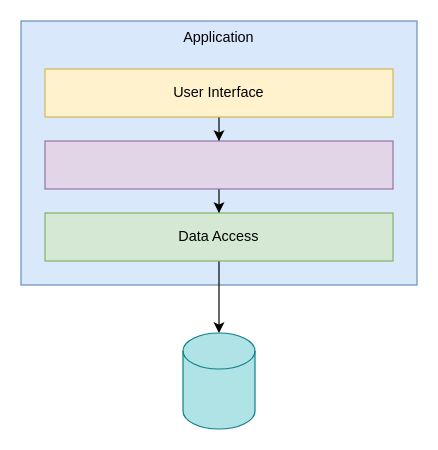
Image size: 438x450. Some labels were removed from this diagram. Each missing label, with the centre of its shape:
Business Logic: (218,164)
RDBMS: (218,380)
